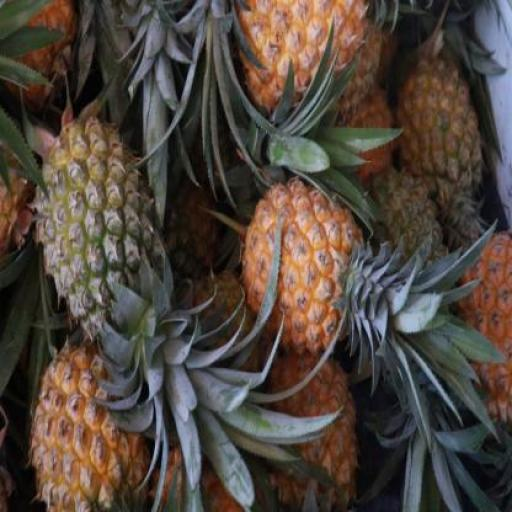------------------------------: (33, 112, 164, 335)
Pineapple - v8 v1: (238, 181, 358, 365), (35, 340, 151, 512)
